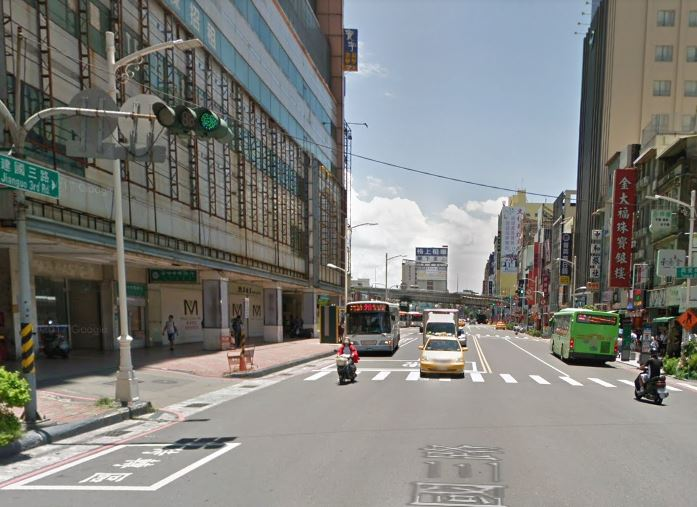Traffic_light_green: (151, 99, 236, 146)
car: (415, 333, 471, 380)
motorcycle: (333, 349, 362, 387)
